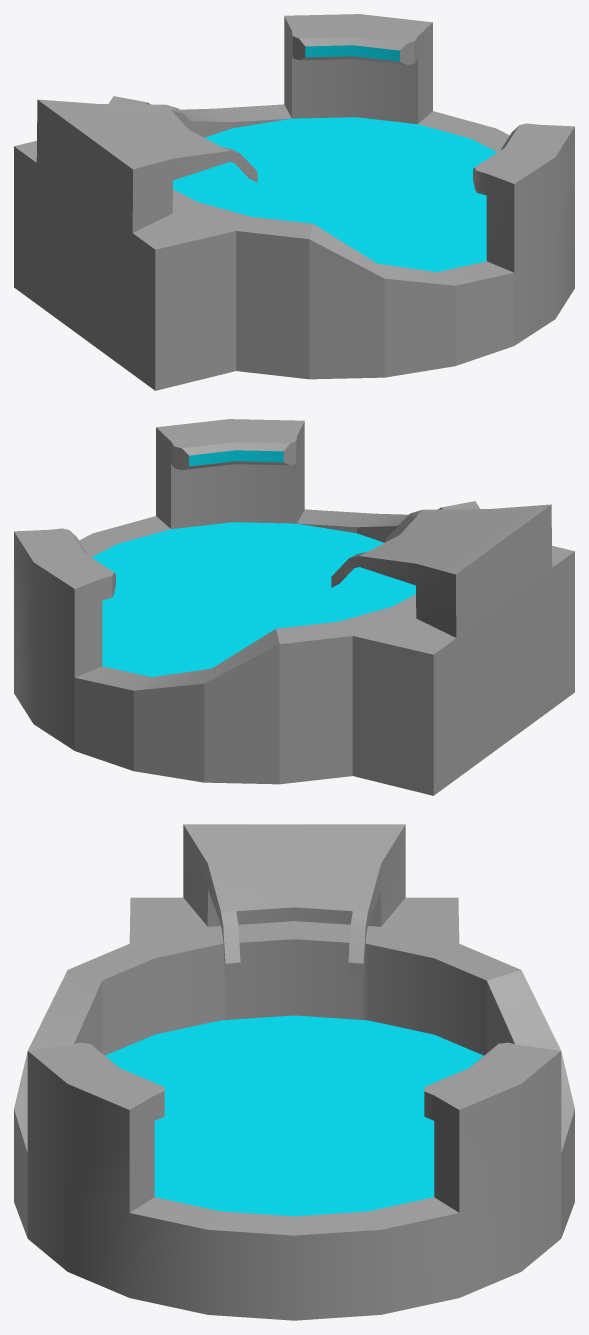
The model's file is BatteryObjective_Base.fbx.
3 renders of one model, top to bottom at view 1: azimuth 30°, elevation 25°; view 2: azimuth 150°, elevation 25°; view 3: azimuth 270°, elevation 25°, orthographic. The views are drawn at different scales.
Visible parts, largest first — view 1: OBJECTIVE_BASE_01; view 2: OBJECTIVE_BASE_01; view 3: OBJECTIVE_BASE_01.
Boxes of the visible parts, x1,y1,x2,y2 form: OBJECTIVE_BASE_01: (14,14,574,390); OBJECTIVE_BASE_01: (14,419,574,795); OBJECTIVE_BASE_01: (14,824,574,1320).
Bounding box in the file's own units: 315 × 134 × 288.
